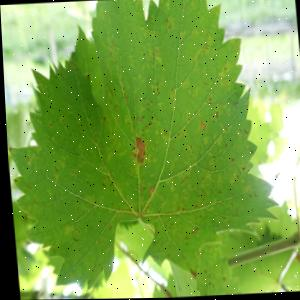Folha: (0, 0, 283, 300)
Fungo: (127, 137, 145, 169), (199, 122, 204, 132), (232, 103, 237, 110), (100, 183, 104, 190), (214, 113, 218, 120), (52, 167, 56, 174), (229, 158, 233, 164)
